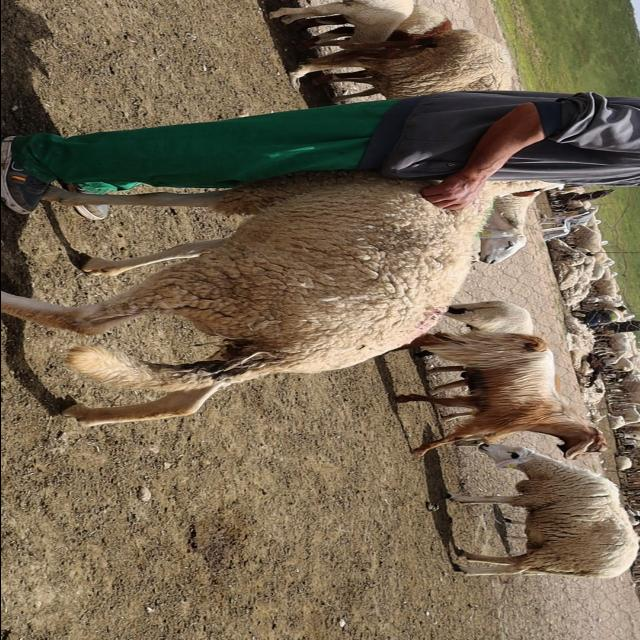Score_1: (1, 170, 539, 426)
